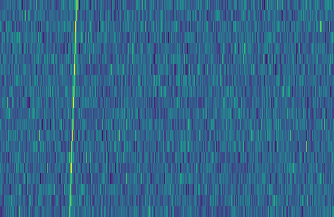signal: (63, 0, 79, 217)
